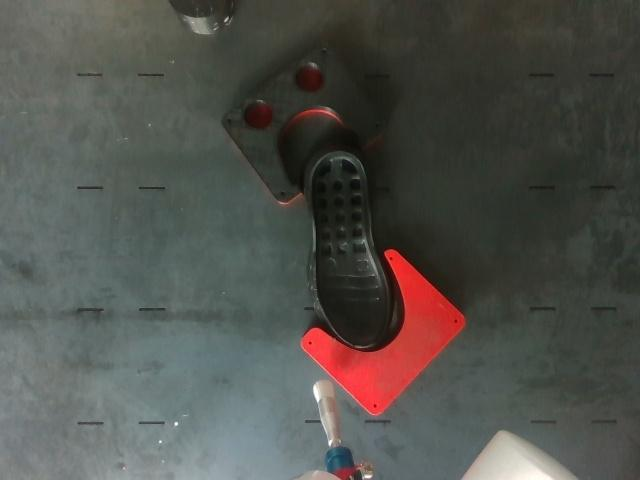shoes: (311, 152, 390, 347)
